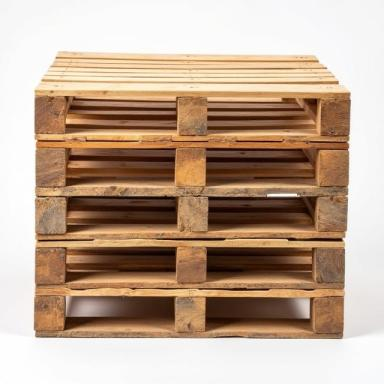pallet: (34, 51, 351, 142), (34, 187, 349, 239), (34, 289, 345, 339), (35, 239, 345, 289), (35, 141, 349, 187), (66, 296, 175, 317), (206, 297, 310, 319), (69, 96, 176, 111), (208, 203, 308, 216), (208, 108, 311, 120), (67, 247, 175, 256), (66, 114, 177, 121), (65, 124, 177, 130), (67, 267, 176, 273), (68, 206, 175, 212), (208, 97, 297, 104), (209, 194, 302, 200), (68, 220, 178, 225), (69, 196, 176, 201)
